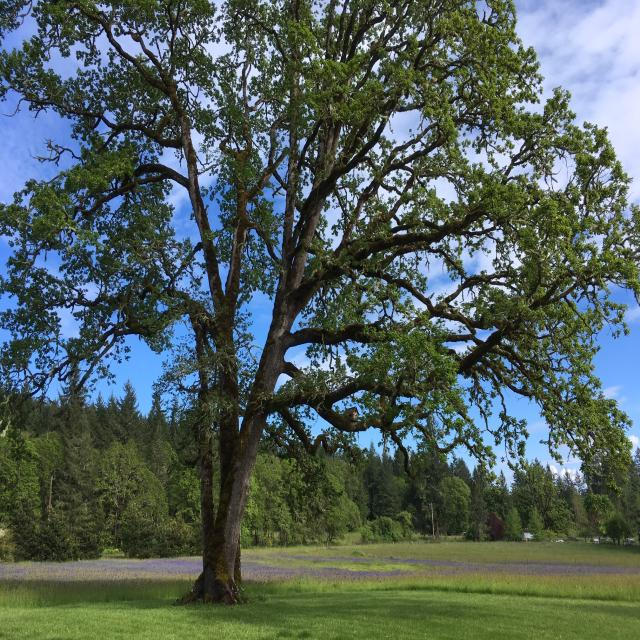Quercus garryana: (0, 0, 640, 608)
